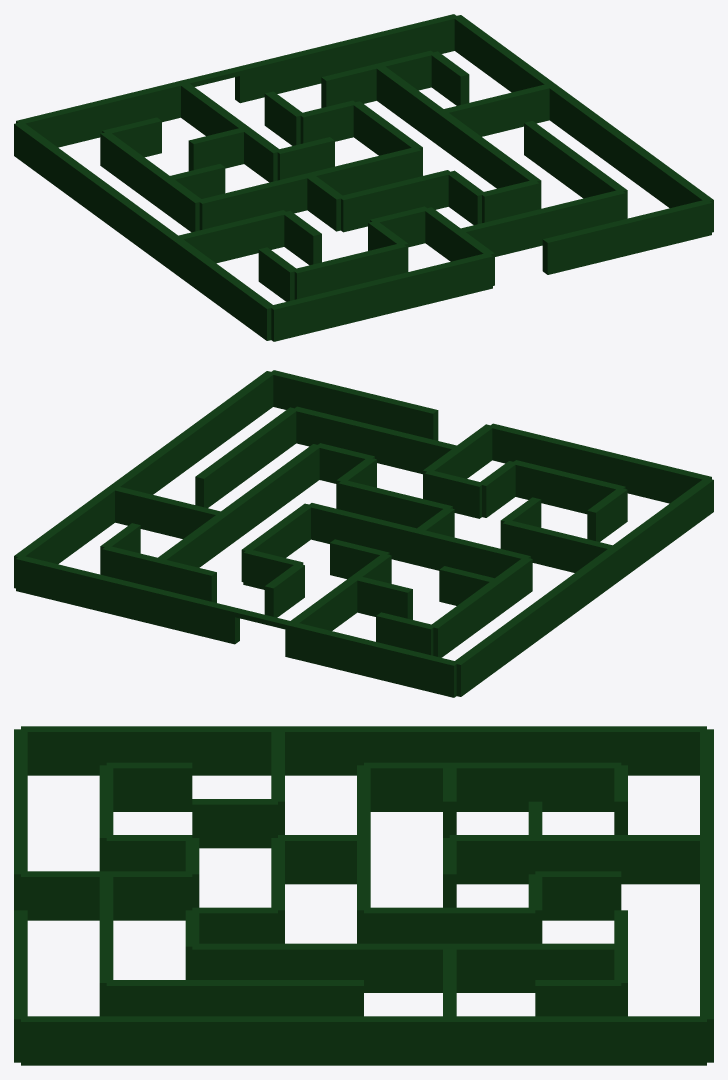
File: maze.glb
The picture shows the model from 3 angles, top to bottom: view 1: azimuth 30°, elevation 25°; view 2: azimuth 150°, elevation 25°; view 3: azimuth 270°, elevation 25°; orthographic projection. The views are drawn at different scales.
Parts seen in each view (by area): view 1: Cube.001; view 2: Cube.001; view 3: Cube.001.
Part boxes in pixels (<box>): Cube.001: <box>14,14,713,341</box>; Cube.001: <box>14,370,713,697</box>; Cube.001: <box>14,726,713,1065</box>.
Size of what is drawn, in the model's own units: 204 by 14 by 204.
